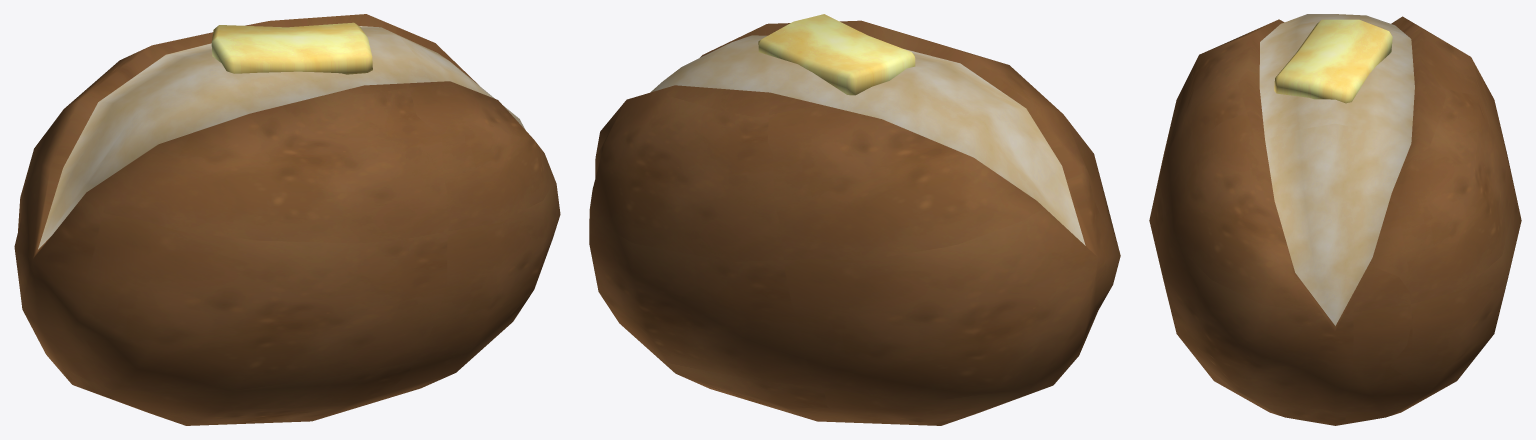
File: LP_PotatoBaked.glb
The picture shows the model from 3 angles, left to right: view 1: azimuth 30°, elevation 25°; view 2: azimuth 150°, elevation 25°; view 3: azimuth 270°, elevation 25°; orthographic projection. The views are drawn at different scales.
Parts seen in each view (by area): view 1: PotatoBaked; view 2: PotatoBaked; view 3: PotatoBaked.
Boxes of the visible parts, left/top/right/bottom form: PotatoBaked: left=14, top=14, right=560, bottom=425; PotatoBaked: left=589, top=14, right=1120, bottom=425; PotatoBaked: left=1149, top=14, right=1521, bottom=425.
Bounding box in the file's own units: 0.3294 × 0.2343 × 0.2326.
3 materials, 3 textured.
